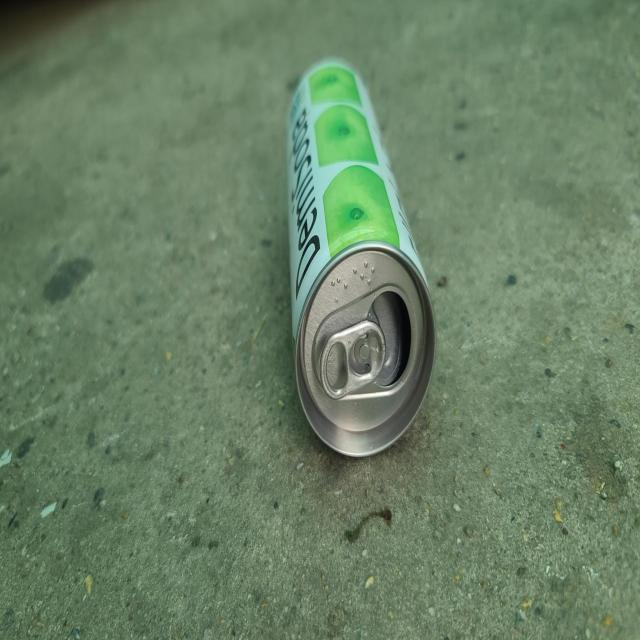can: (287, 57, 436, 456)
